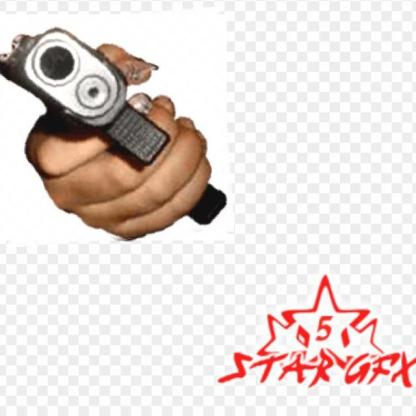handgun: (0, 10, 230, 244)
